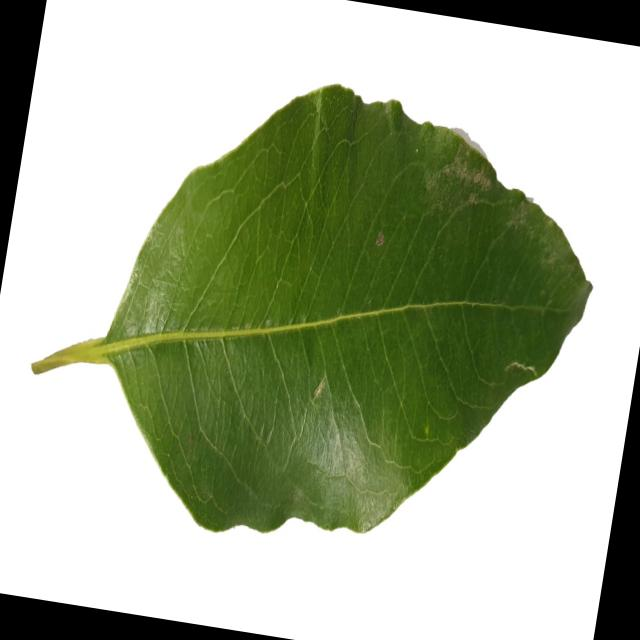Medicinal-Sandalwood: (9, 45, 618, 590)
